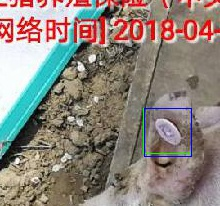text: (143, 108, 191, 153)
